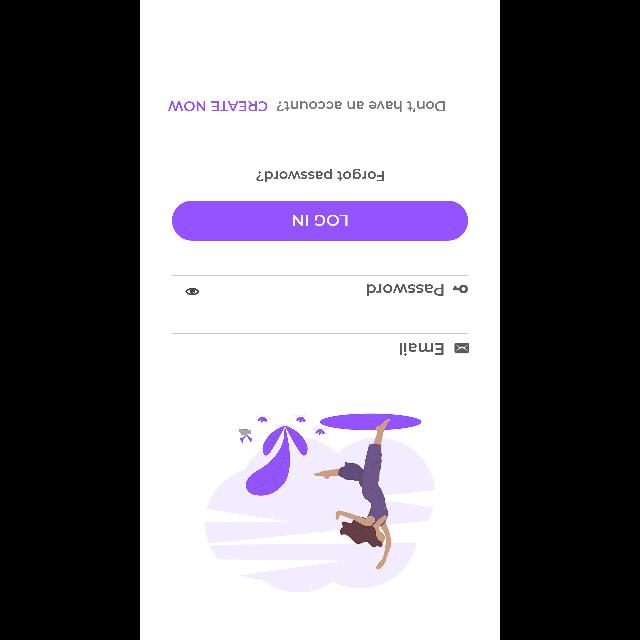icon: (454, 342, 470, 353), (185, 288, 199, 296)
image: (205, 413, 435, 592), (452, 284, 468, 294)
input: (172, 332, 468, 356), (172, 276, 468, 296)
text: (276, 100, 444, 112), (256, 168, 384, 182), (168, 100, 268, 112), (366, 284, 444, 296), (399, 344, 443, 356)
textbutton: (172, 200, 468, 240)
